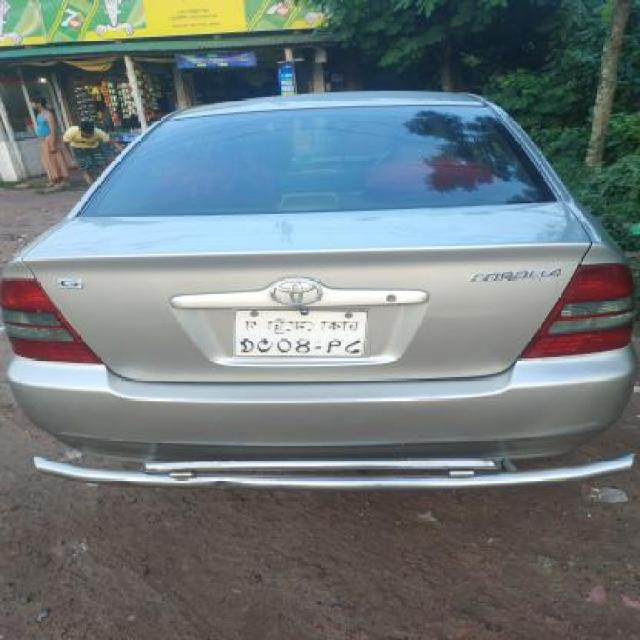numberplate: (232, 308, 370, 358)
